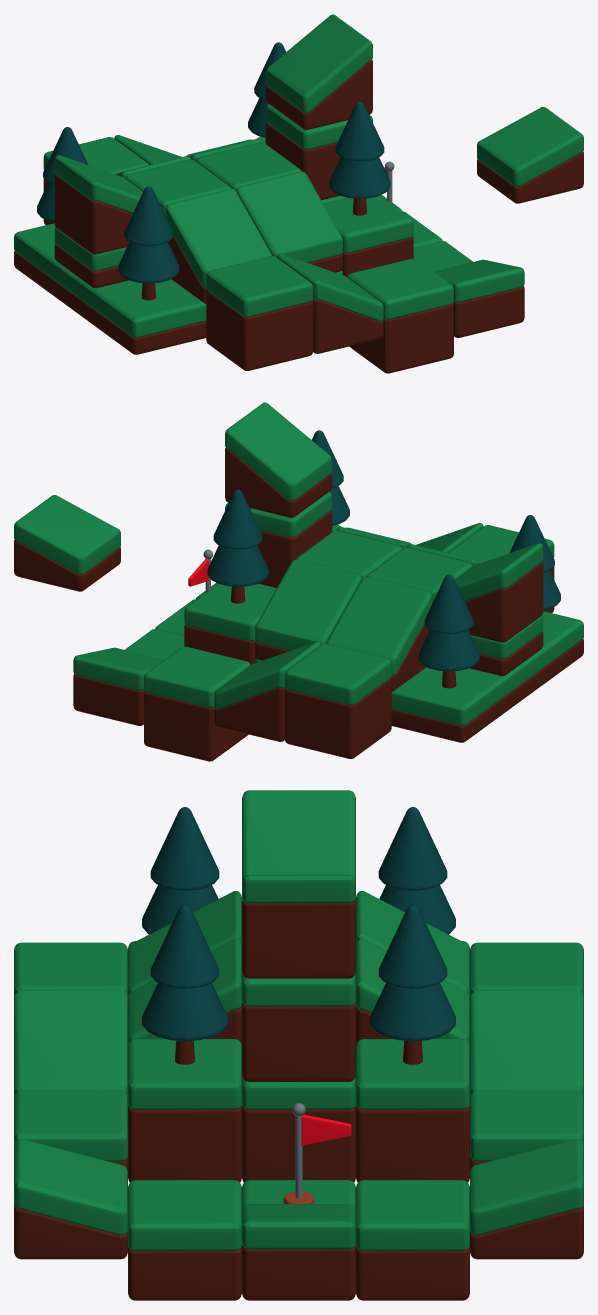
File: Map1.glb
3 views of the same model, one above another, from view 1: azimuth 30°, elevation 25°; view 2: azimuth 150°, elevation 25°; view 3: azimuth 270°, elevation 25° (orthographic). The views are drawn at different scales.
Visible parts, largest first — view 1: tileSlopeLowHigh_forest (×6), tileHigh_forest (×6), tileSlopeLowMedium_forest (×2), tree_forest (×4), tileLarge_forest, tileLow_forest (×2), tileMedium_forest (×2); view 2: tileSlopeLowHigh_forest (×6), tileHigh_forest (×6), tileSlopeLowMedium_forest (×2), tree_forest (×4), tileLarge_forest, tileLow_forest (×2), tileMedium_forest (×2), flag_teamRed; view 3: tileHigh_forest (×8), tileSlopeLowHigh_forest (×8), tileSlopeLowMedium_forest (×3), tileMedium_forest (×3), tree_forest (×4), flag_teamRed.
Part boxes in pixels (x1=…): tileSlopeLowHigh_forest (×6): x1=54, y1=14, x2=383, y2=353; tileHigh_forest (×6): x1=43, y1=104, x2=453, y2=373; tileSlopeLowMedium_forest (×2): x1=433, y1=107, x2=583, y2=337; tree_forest (×4): x1=37, y1=42, x2=390, y2=300; tileLarge_forest: x1=14, y1=223, x2=342, y2=354; tileLow_forest (×2): x1=54, y1=142, x2=301, y2=288; tileMedium_forest (×2): x1=401, y1=211, x2=472, y2=271; tileSlopeLowHigh_forest (×6): x1=214, y1=402, x2=543, y2=741; tileHigh_forest (×6): x1=144, y1=492, x2=554, y2=761; tileSlopeLowMedium_forest (×2): x1=14, y1=495, x2=164, y2=725; tree_forest (×4): x1=207, y1=430, x2=560, y2=688; tileLarge_forest: x1=255, y1=611, x2=583, y2=742; tileLow_forest (×2): x1=296, y1=530, x2=543, y2=676; tileMedium_forest (×2): x1=125, y1=599, x2=196, y2=659; flag_teamRed: x1=188, y1=549, x2=212, y2=592; tileHigh_forest (×8): x1=14, y1=942, x2=583, y2=1182; tileSlopeLowHigh_forest (×8): x1=14, y1=790, x2=583, y2=1096; tileSlopeLowMedium_forest (×3): x1=14, y1=1138, x2=583, y2=1298; tileMedium_forest (×3): x1=128, y1=1180, x2=469, y2=1300; tree_forest (×4): x1=142, y1=807, x2=455, y2=1064; flag_teamRed: x1=283, y1=1103, x2=351, y2=1203.
Size of the model in its own units: 14 by 7.3 by 10.
